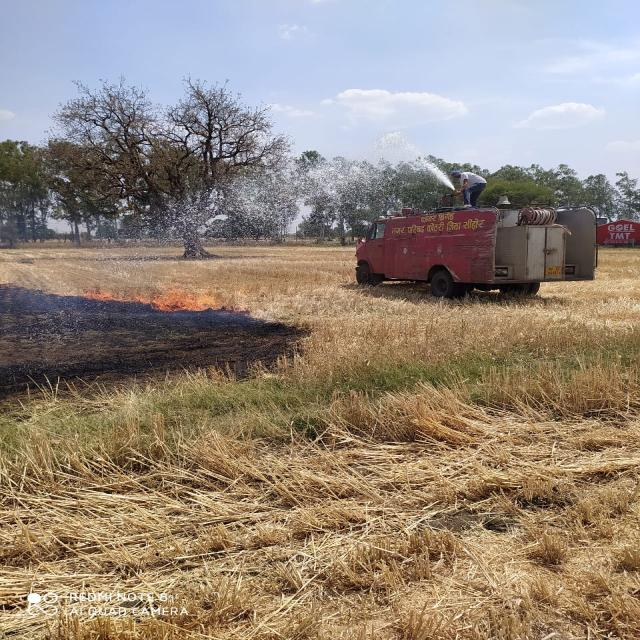Fire: (77, 287, 235, 313)
